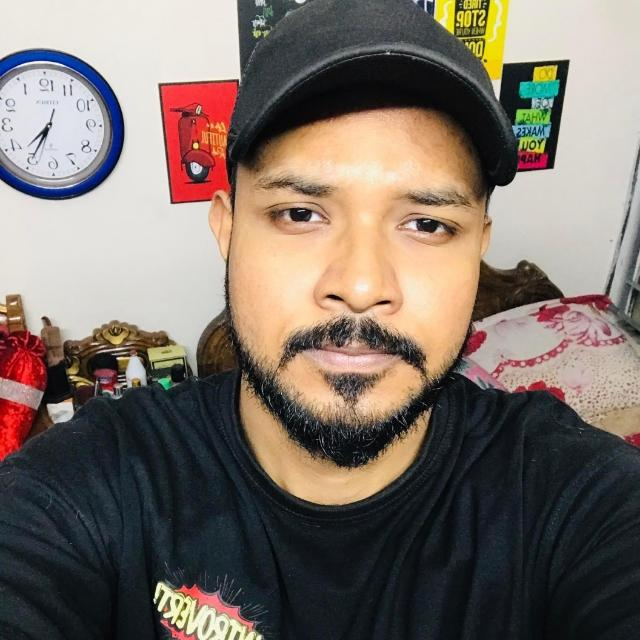Natural: (208, 52, 537, 496)
